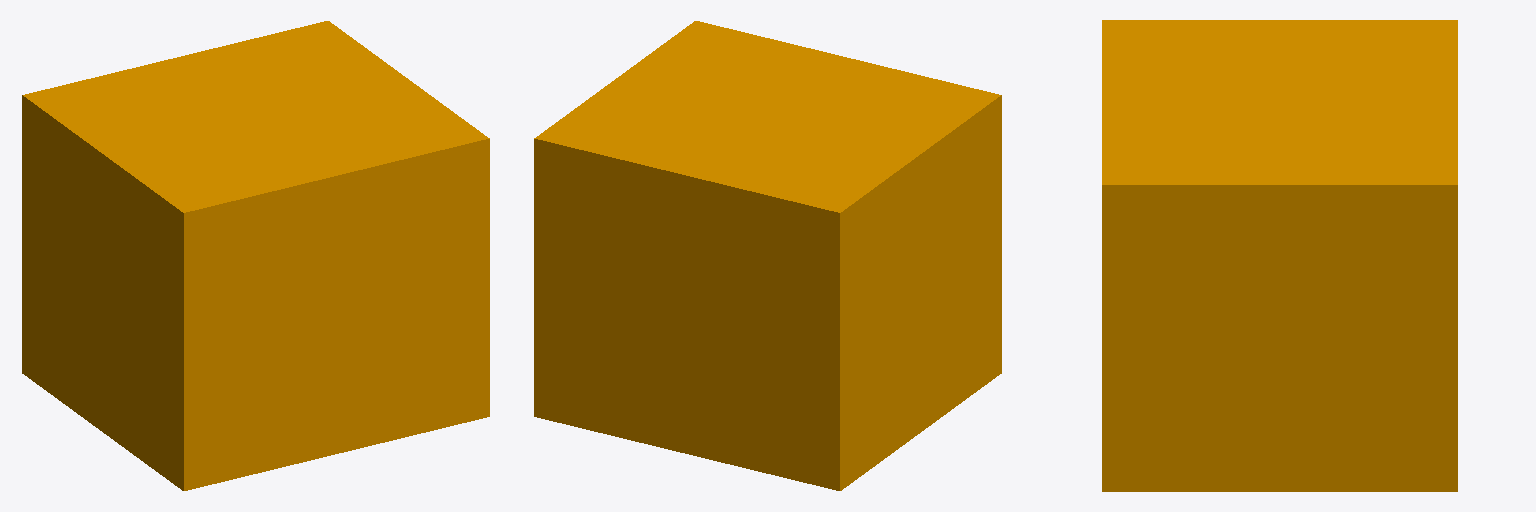
The robot description file, URDF, robot "object":
<robot name="object">
  <link name="object">
    <visual>
      <origin xyz="0 0 0" />
      <geometry>
        <box size="0.09200000000000003 0.08400000000000002 0.08" />
      </geometry>
    </visual>

    <collision>
      <origin xyz="0 0 0" />
      <geometry>
        <box size="0.09200000000000003 0.08400000000000002 0.08" />
      </geometry>
    </collision>

    <inertial>
      <mass value="0.05" />
      <inertia ixx="0.0001" ixy="0.0" ixz="0.0" iyy="0.0001" iyz="0.0" izz="0.0001" />
    </inertial>
  </link>
</robot>

--- Facts derived from the render (not from the file) ---
Views: 3 orthographic renders of the robot side by side, from view 1: azimuth 30°, elevation 25°; view 2: azimuth 150°, elevation 25°; view 3: azimuth 270°, elevation 25°.
Robot: object — 1 links, 0 joints (none); root link object; default pose: all joints at 0.
Links seen in each view (by area): view 1: object; view 2: object; view 3: object.
Link boxes in pixels (box(x1,y1,x2,y2)): object: box(22, 21, 489, 490); object: box(534, 21, 1001, 490); object: box(1102, 20, 1457, 491).
Size in the robot's own frame: 0.092 by 0.084 by 0.08 metres.
Geometry: primitives only (box / cylinder / sphere), no mesh files.